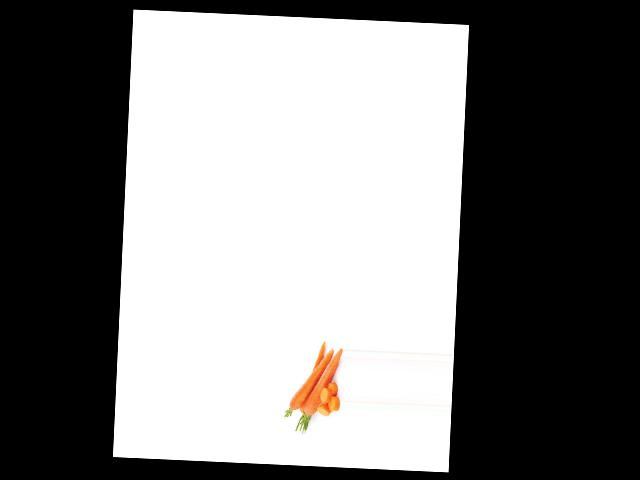carrot: (301, 347, 342, 424)
